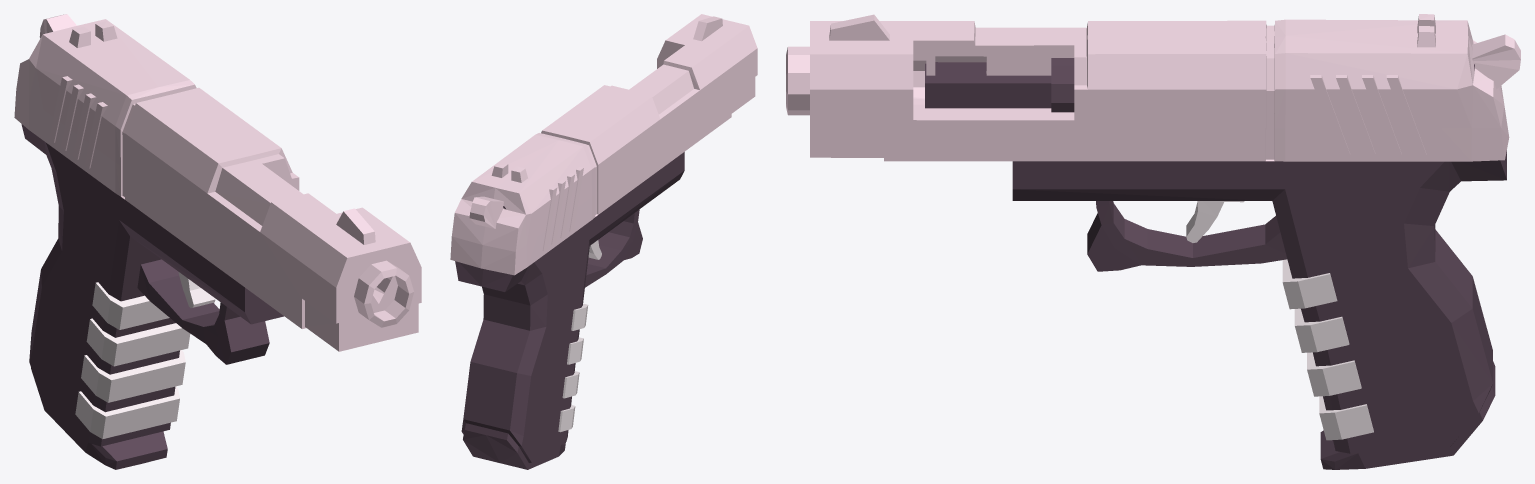
File: Pistol_5.obj
3 renders of one model, left to right at view 1: azimuth 30°, elevation 25°; view 2: azimuth 150°, elevation 25°; view 3: azimuth 270°, elevation 25°, orthographic. The views are drawn at different scales.
Visible parts, largest first — view 1: Slide, Hardware, Body, Mag; view 2: Slide, Hardware, Body, Mag; view 3: Slide, Hardware, Body, Mag.
Part boxes in pixels (<box>): Slide: <box>14,14,421,351</box>; Hardware: <box>21,124,283,441</box>; Body: <box>75,272,215,439</box>; Mag: <box>41,399,170,469</box>; Slide: <box>450,14,757,275</box>; Hardware: <box>455,152,684,465</box>; Body: <box>558,240,601,432</box>; Mag: <box>470,434,567,469</box>; Slide: <box>786,14,1520,161</box>; Hardware: <box>925,58,1506,448</box>; Body: <box>1186,201,1373,440</box>; Mag: <box>1320,430,1460,469</box>.
Bounding box in the file's own units: 0.4826 × 2.11 × 3.2.
